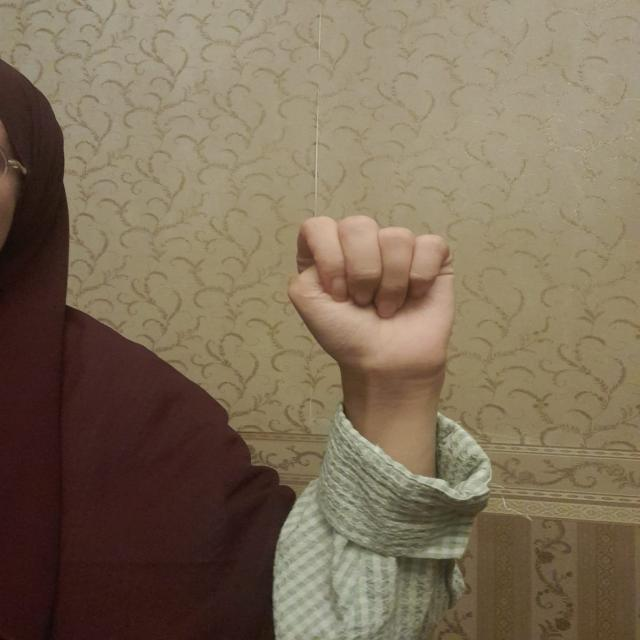Closed Hand: (286, 212, 458, 371)
